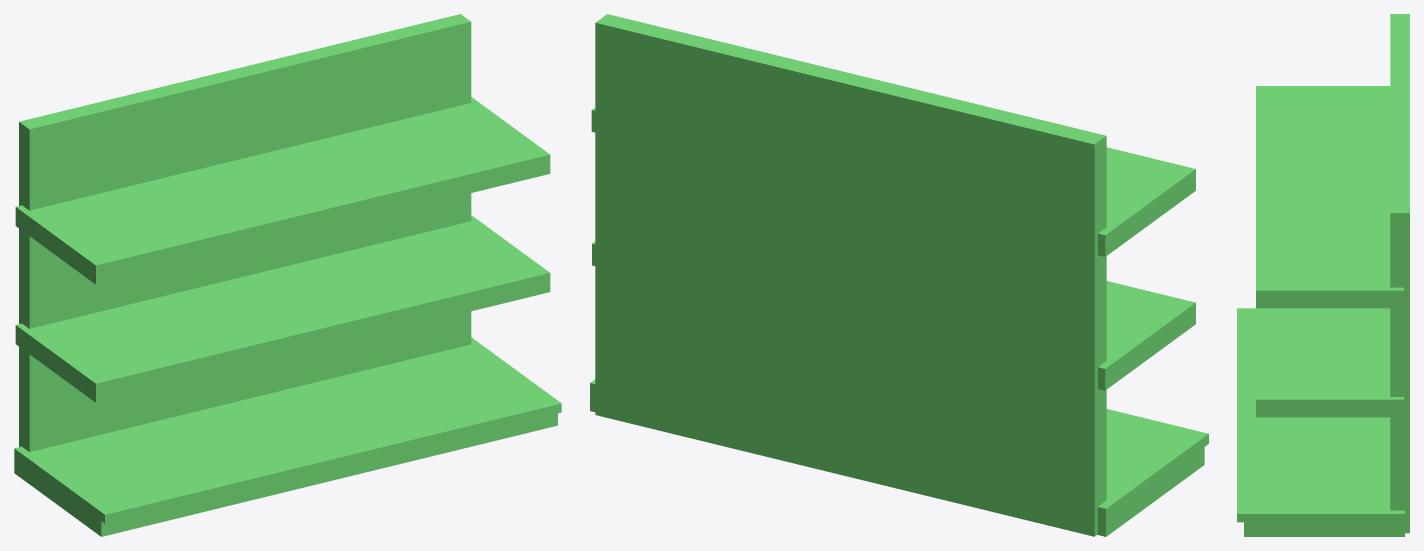
File: ScaffaleUnity.fbx
3 renders of one model, left to right at view 1: azimuth 30°, elevation 25°; view 2: azimuth 150°, elevation 25°; view 3: azimuth 270°, elevation 25°, orthographic. The views are drawn at different scales.
Parts seen in each view (by area): view 1: ScaffaleLungo; view 2: ScaffaleLungo; view 3: ScaffaleLungo.
Boxes of the visible parts, box(x1,y1,x2,y2) form: ScaffaleLungo: box(14, 14, 561, 536); ScaffaleLungo: box(590, 14, 1208, 536); ScaffaleLungo: box(1237, 14, 1409, 536).
Size of the model in its own units: 391 by 284 by 139.
